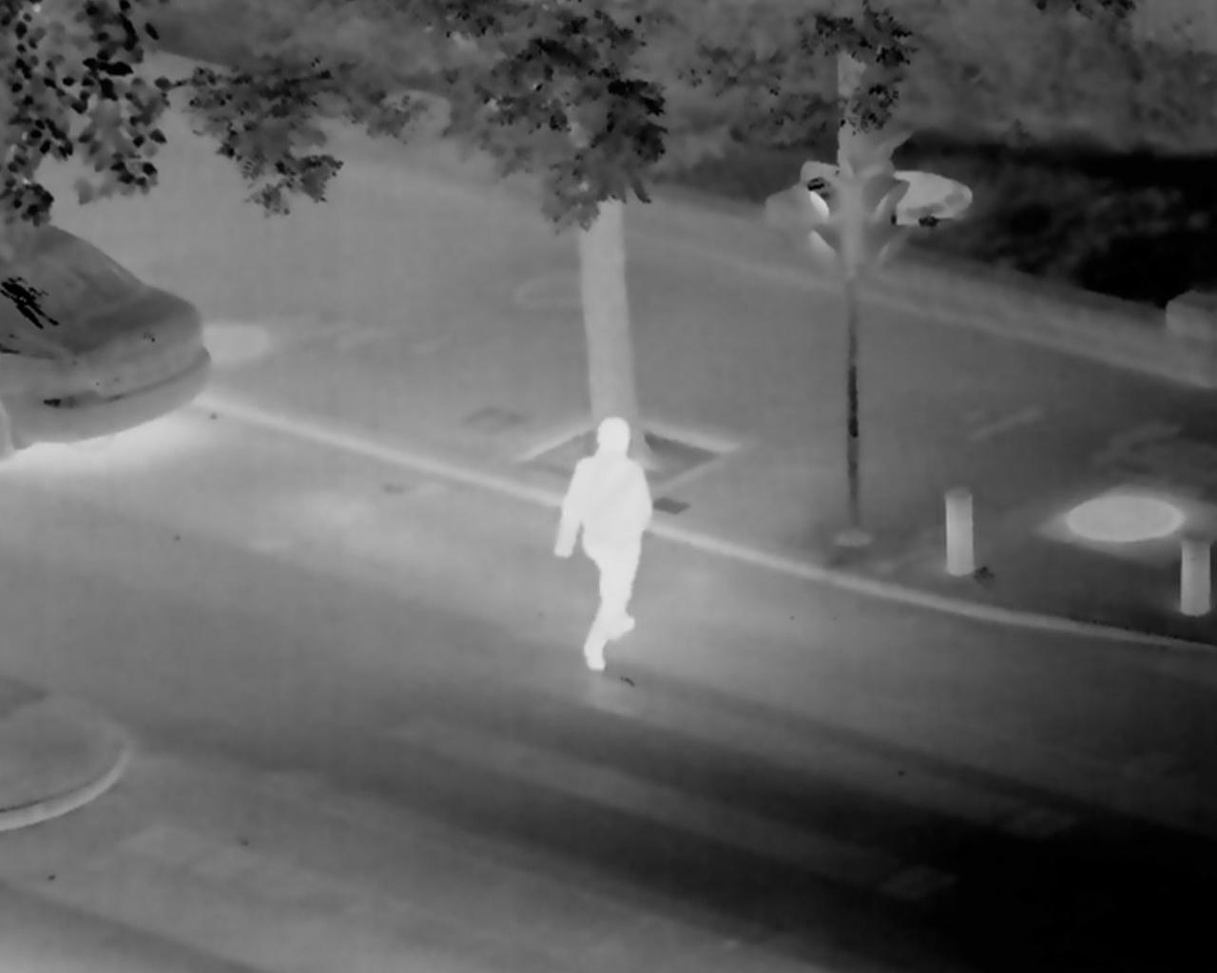person: (551, 403, 694, 679)
